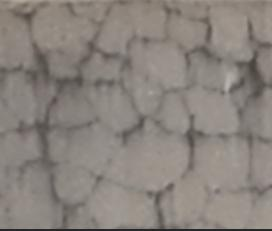fissura: (0, 0, 272, 227)
